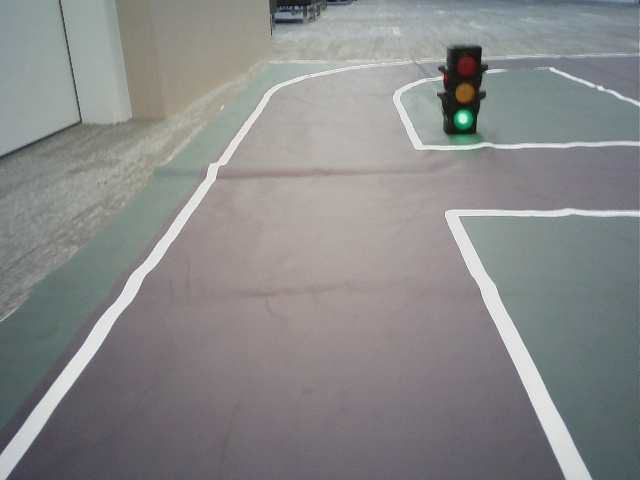green: (449, 49, 480, 129)
